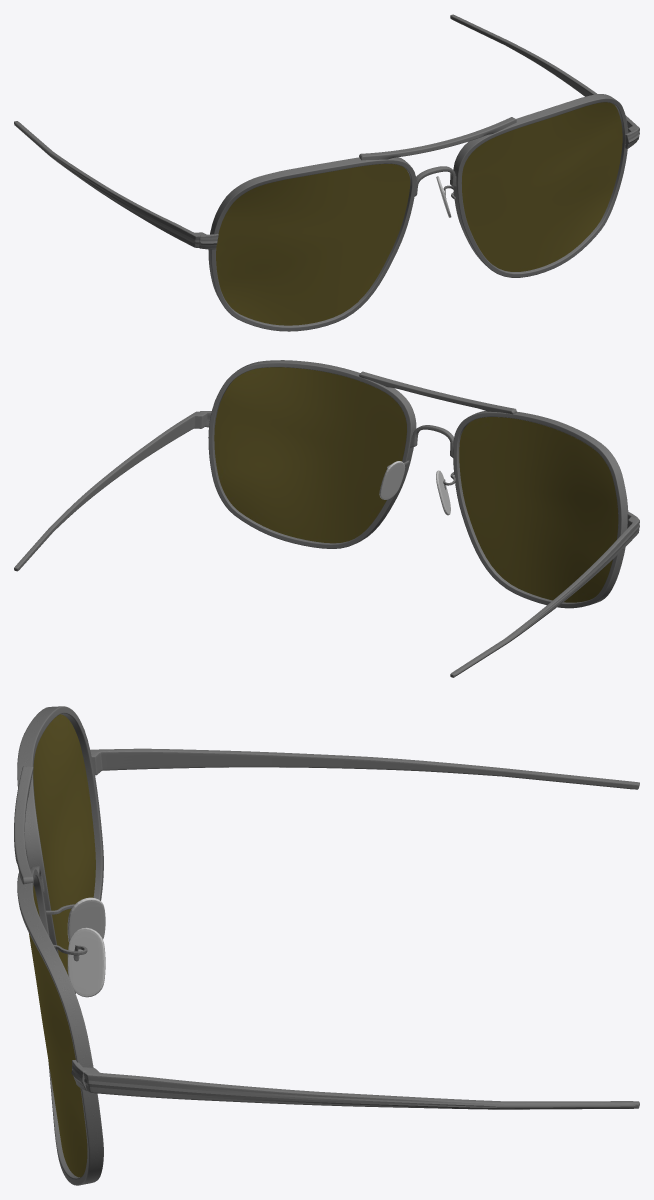
The model's file is chromance_alpha.glb.
The picture shows the model from 3 angles, top to bottom: view 1: azimuth 30°, elevation 25°; view 2: azimuth 150°, elevation 25°; view 3: azimuth 270°, elevation 25°; orthographic projection. The views are drawn at different scales.
Visible parts, largest first — view 1: Lentes, armacao; view 2: Lentes, armacao; view 3: armacao, Lentes.
Part boxes in pixels (x1,y1,x2,y2): Lentes: (216, 102, 622, 325); armacao: (14, 14, 639, 331); Lentes: (214, 367, 618, 602); armacao: (14, 360, 639, 677); armacao: (14, 706, 639, 1185); Lentes: (29, 714, 95, 1177).
Size of the model in its own units: 0.157 by 0.0556 by 0.1217.
2 materials, 2 textured.
